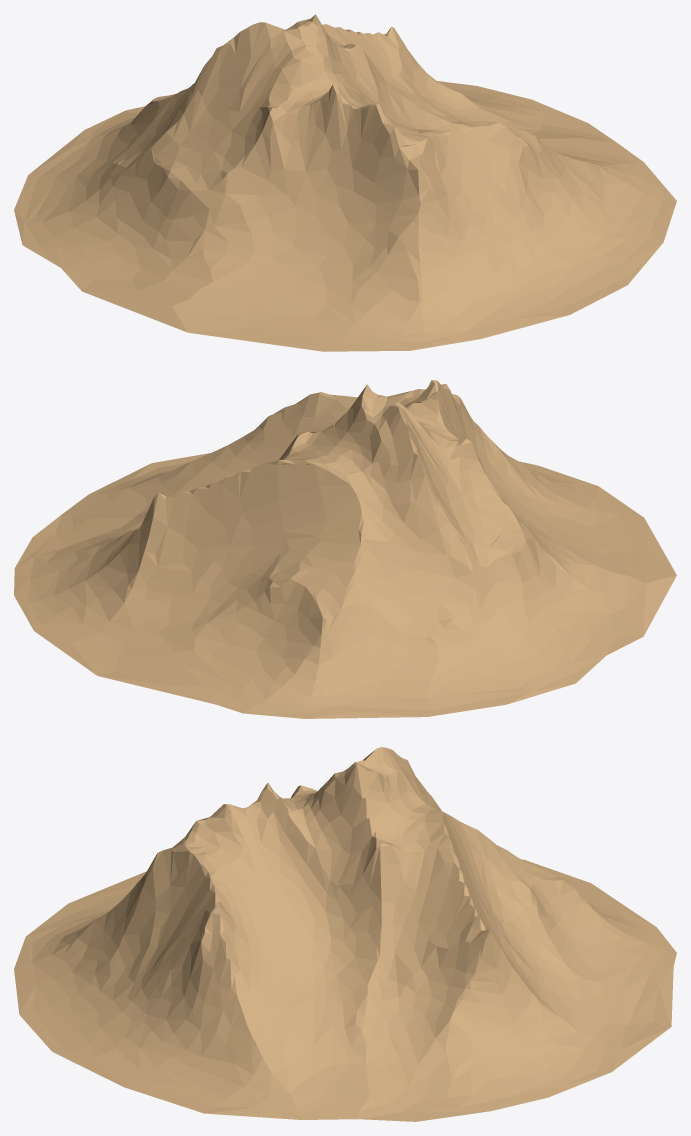
File: MT_Mountain_L_d_04.fbx
3 views of the same model, one above another, from view 1: azimuth 30°, elevation 25°; view 2: azimuth 150°, elevation 25°; view 3: azimuth 270°, elevation 25° (orthographic). The views are drawn at different scales.
Visible parts, largest first — view 1: MT_Mountain_L_d_04; view 2: MT_Mountain_L_d_04; view 3: MT_Mountain_L_d_04.
Boxes of the visible parts, bbox=[...] form: MT_Mountain_L_d_04: bbox=[14, 14, 676, 351]; MT_Mountain_L_d_04: bbox=[14, 380, 676, 718]; MT_Mountain_L_d_04: bbox=[14, 747, 676, 1121].
Size of the model in its own units: 9959 by 3493 by 10056.
